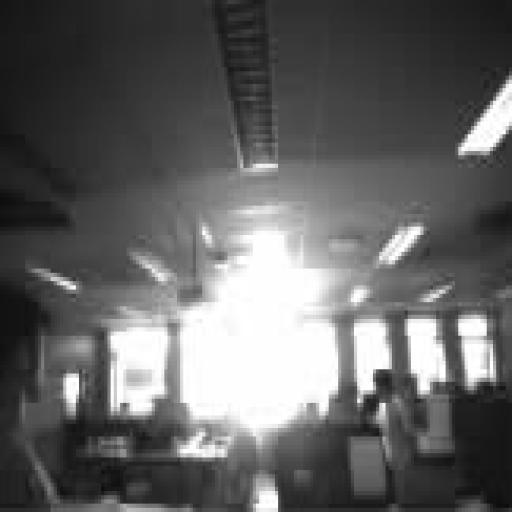human: (0, 282, 56, 511), (373, 370, 414, 470)
